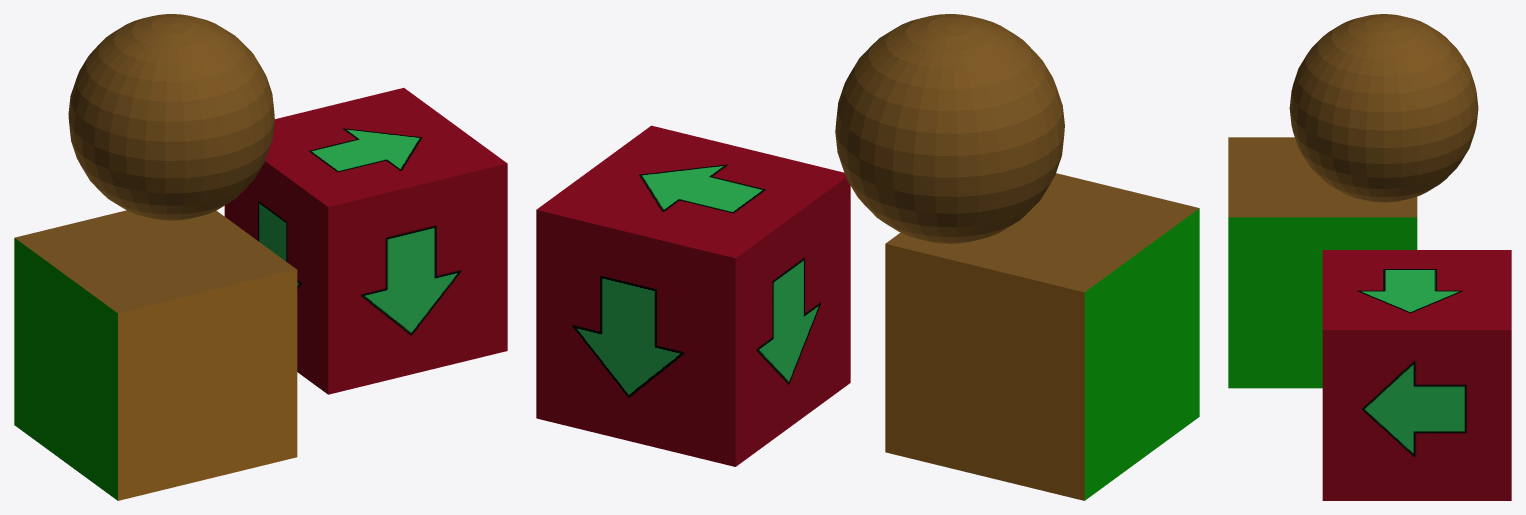
File: debugScene.obj
3 renders of one model, left to right at view 1: azimuth 30°, elevation 25°; view 2: azimuth 150°, elevation 25°; view 3: azimuth 270°, elevation 25°, orthographic. The views are drawn at different scales.
Visible parts, largest first — view 1: Cube; view 2: Cube; view 3: Cube.
Part boxes in pixels (left/top/right/bottom): Cube: left=14, top=14, right=507, bottom=500; Cube: left=536, top=14, right=1199, bottom=500; Cube: left=1228, top=14, right=1511, bottom=500.
Bounding box in the file's own units: 4.92 × 4.06 × 3.
